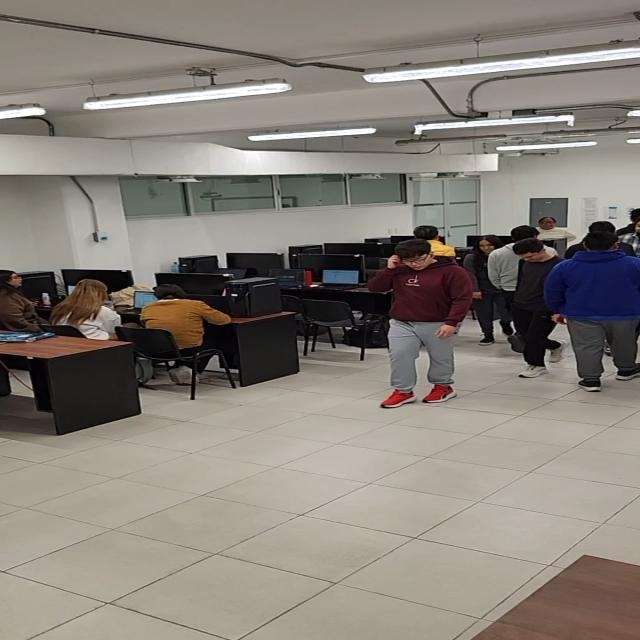Persona: (365, 238, 475, 408), (543, 230, 640, 392), (486, 225, 560, 352), (511, 238, 568, 379), (462, 234, 518, 346), (618, 208, 640, 260)
